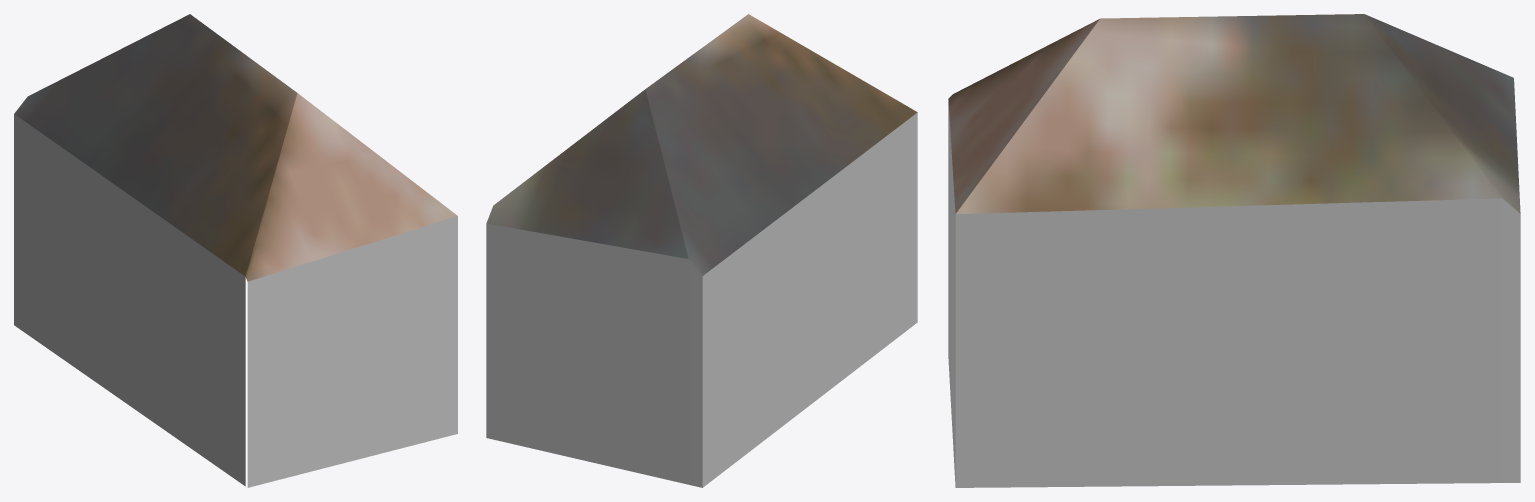
The model's file is DEBW_0010007Txe3.gltf.
3 views of the same model, side by side, from view 1: azimuth 30°, elevation 25°; view 2: azimuth 150°, elevation 25°; view 3: azimuth 270°, elevation 25° (orthographic). The views are drawn at different scales.
Parts seen in each view (by area): view 1: Z_UP; view 2: Z_UP; view 3: Z_UP.
Part boxes in pixels (left/top/right/bottom): Z_UP: left=14, top=14, right=457, bottom=487; Z_UP: left=486, top=14, right=917, bottom=487; Z_UP: left=948, top=14, right=1520, bottom=487.
Size of the model in its own units: 3.16 by 4.45 by 5.63.
Materials: 2 (1 with a texture image).
